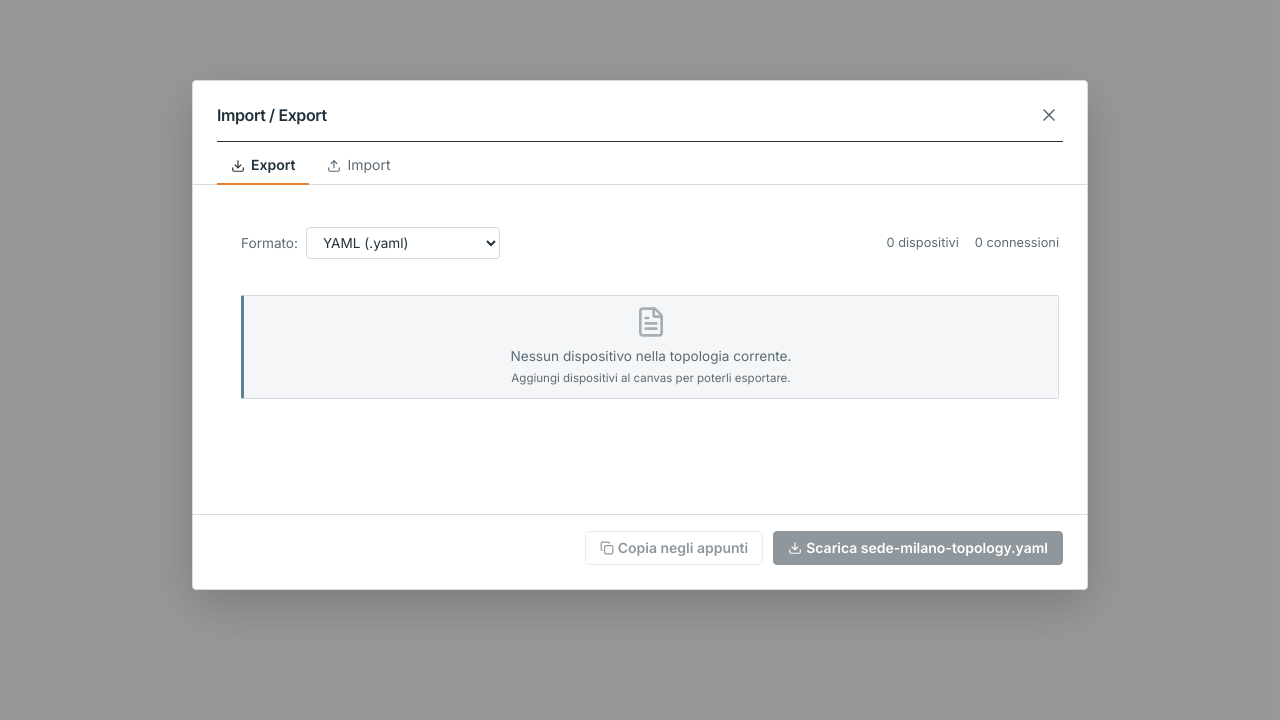
Test case: ImportExportModal — export formats › shows the warning on an empty canvas too
Select "Terraform HCL (bozza)" in the dropdown labelled "Formato:" at (403, 243), box [306,227,500,259]
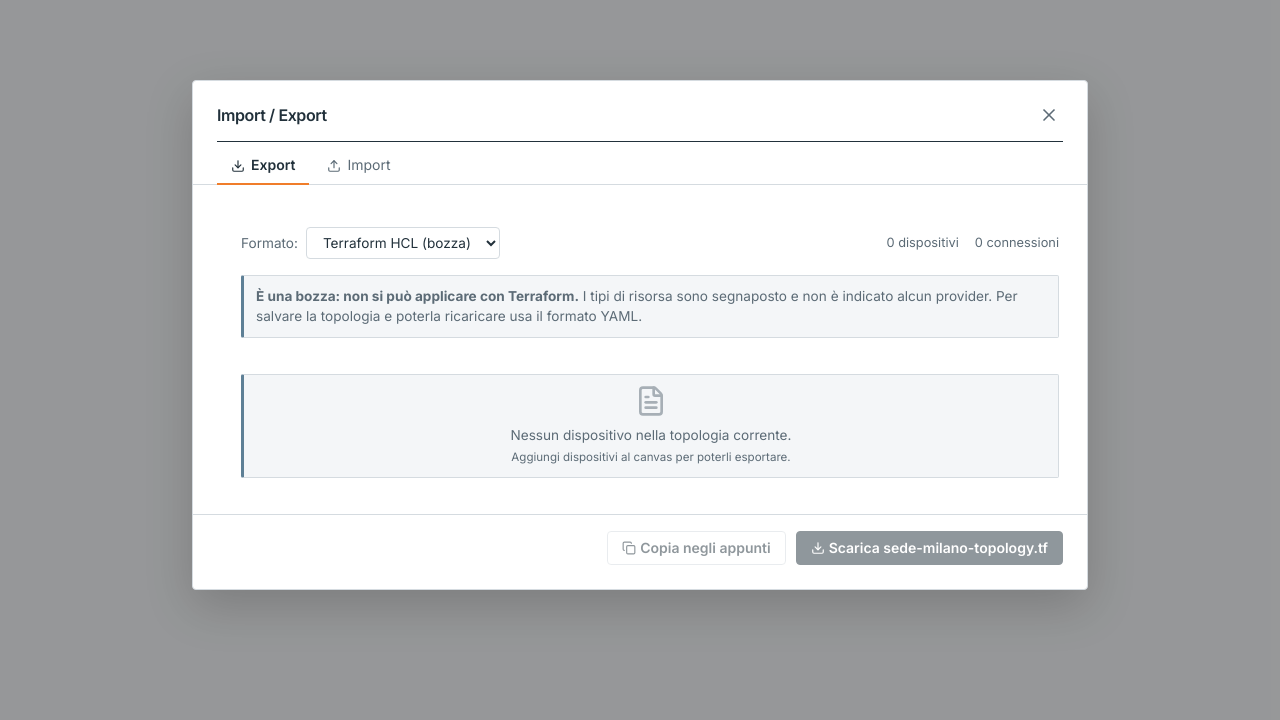
Now the text "non si può applicare con Terraform" is shown, box [256,288,579,304]
